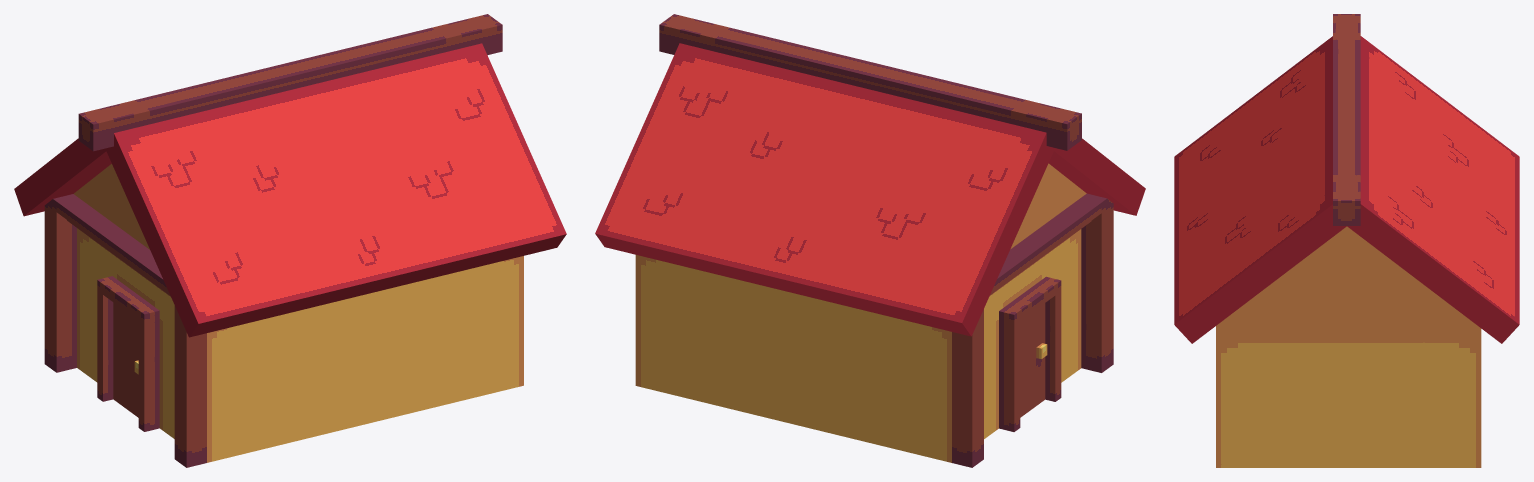
File: house.glb
3 renders of one model, left to right at view 1: azimuth 30°, elevation 25°; view 2: azimuth 150°, elevation 25°; view 3: azimuth 270°, elevation 25°, orthographic. The views are drawn at different scales.
Visible parts, largest first — view 1: cube (×12), cuboid; view 2: cube (×12), cuboid; view 3: cube (×4), cuboid.
Part boxes in pixels (box(x1,y1,x2,y2)): cube (×12): box(14, 14, 566, 467); cuboid: box(74, 164, 149, 249); cube (×12): box(595, 14, 1145, 467); cuboid: box(1010, 163, 1086, 248); cube (×4): box(1174, 14, 1519, 467); cuboid: box(1240, 226, 1453, 307).
Bounding box in the file's own units: 5 × 3.56 × 3.9.
Materials: 1 (1 with a texture image).
